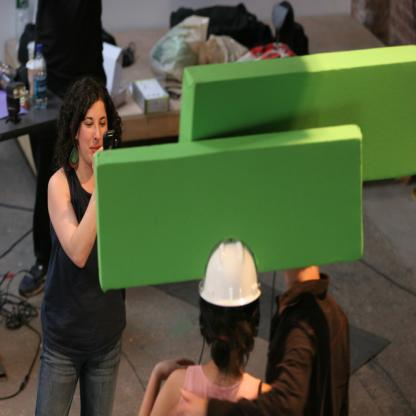Helmet: (198, 238, 260, 309)
